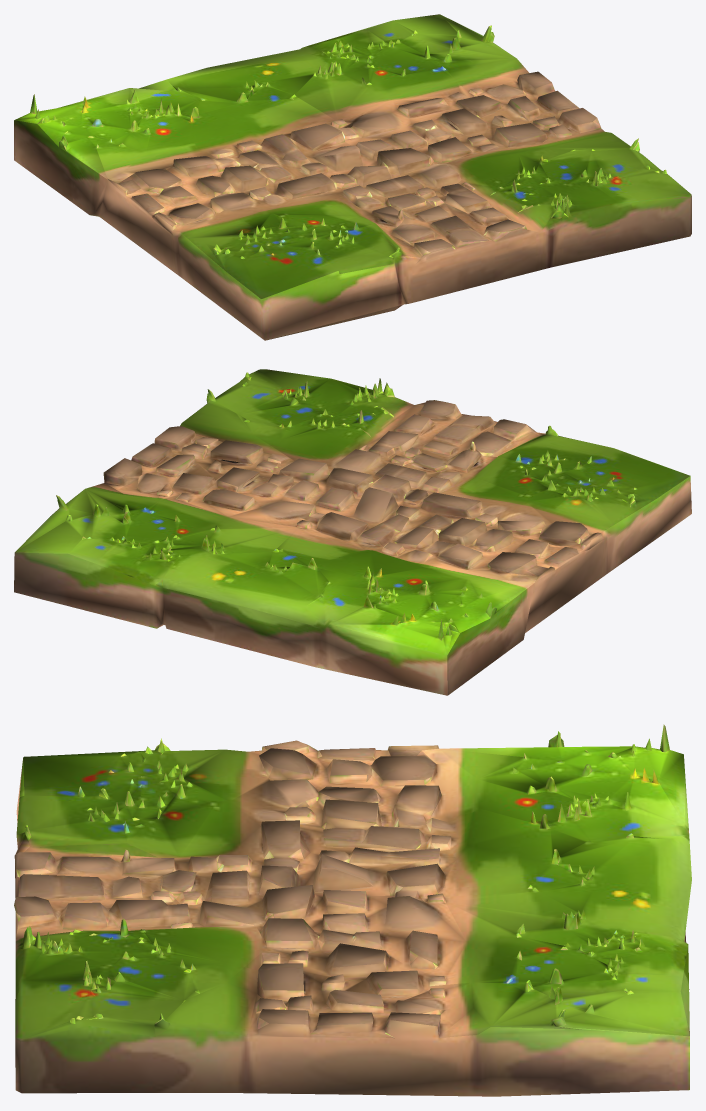
Rendered from path-t.glb.
3 renders of one model, top to bottom at view 1: azimuth 30°, elevation 25°; view 2: azimuth 150°, elevation 25°; view 3: azimuth 270°, elevation 25°, orthographic. The views are drawn at different scales.
Parts seen in each view (by area): view 1: Mesh1.0; view 2: Mesh1.0; view 3: Mesh1.0.
Boxes of the visible parts, <box> form: Mesh1.0: <box>14,14,691,340</box>; Mesh1.0: <box>14,369,691,695</box>; Mesh1.0: <box>14,724,691,1096</box>.
Bounding box in the file's own units: 1.9 × 0.3086 × 1.89.
Materials: 1 (1 with a texture image).
